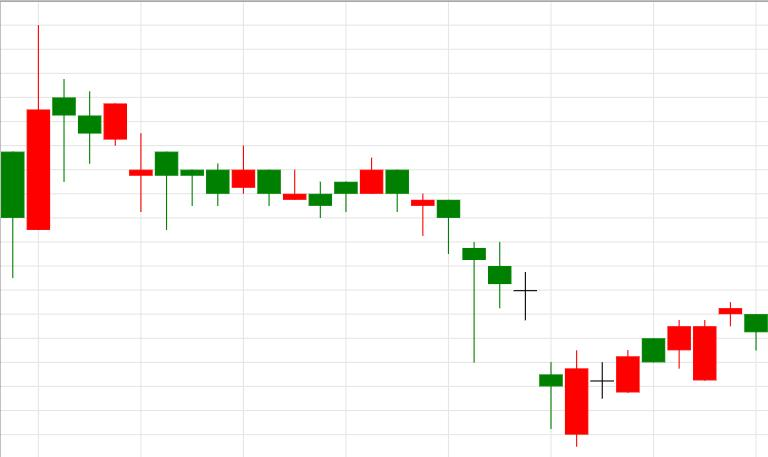bullish_engulfing_rise: (386, 169, 589, 447)
hanging_man_fall: (52, 79, 179, 231)
